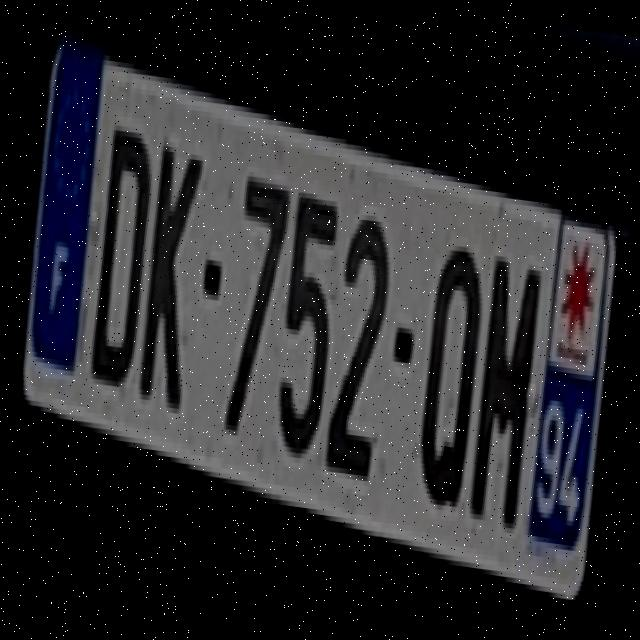EU: (17, 39, 618, 605)
France: (27, 41, 106, 383)
